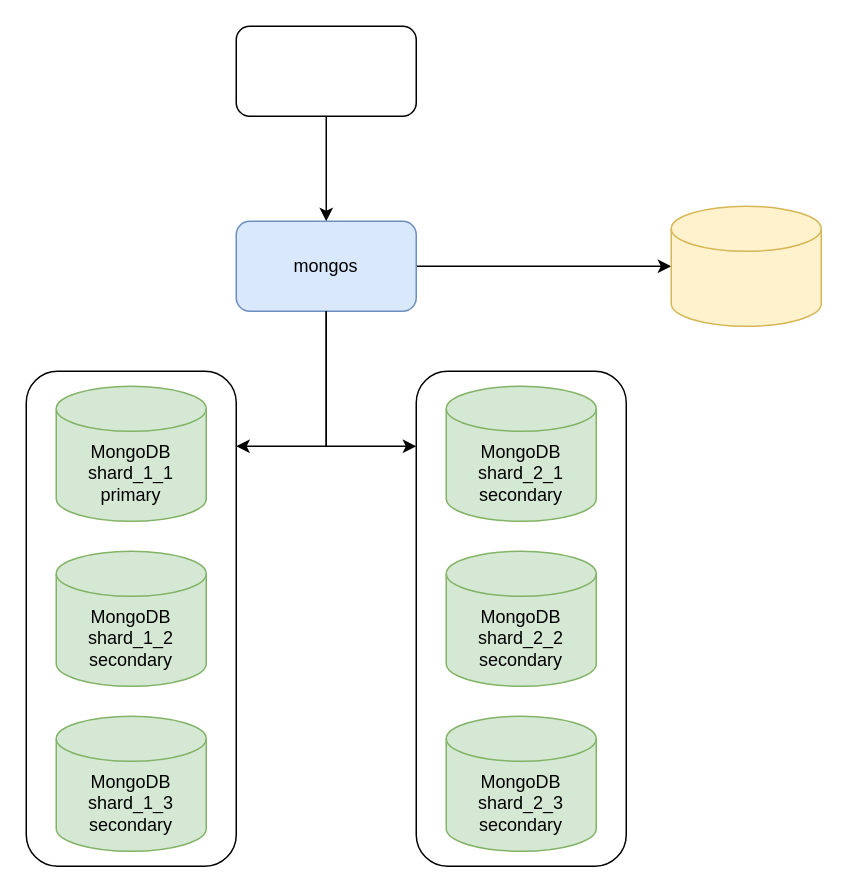
Some shapes in this 848 by 893 pixel diagram are drawn without their labels. Each missing label, with the centre of its shape:
configSrv: (745,265)
pymongo-api: (325,70)
